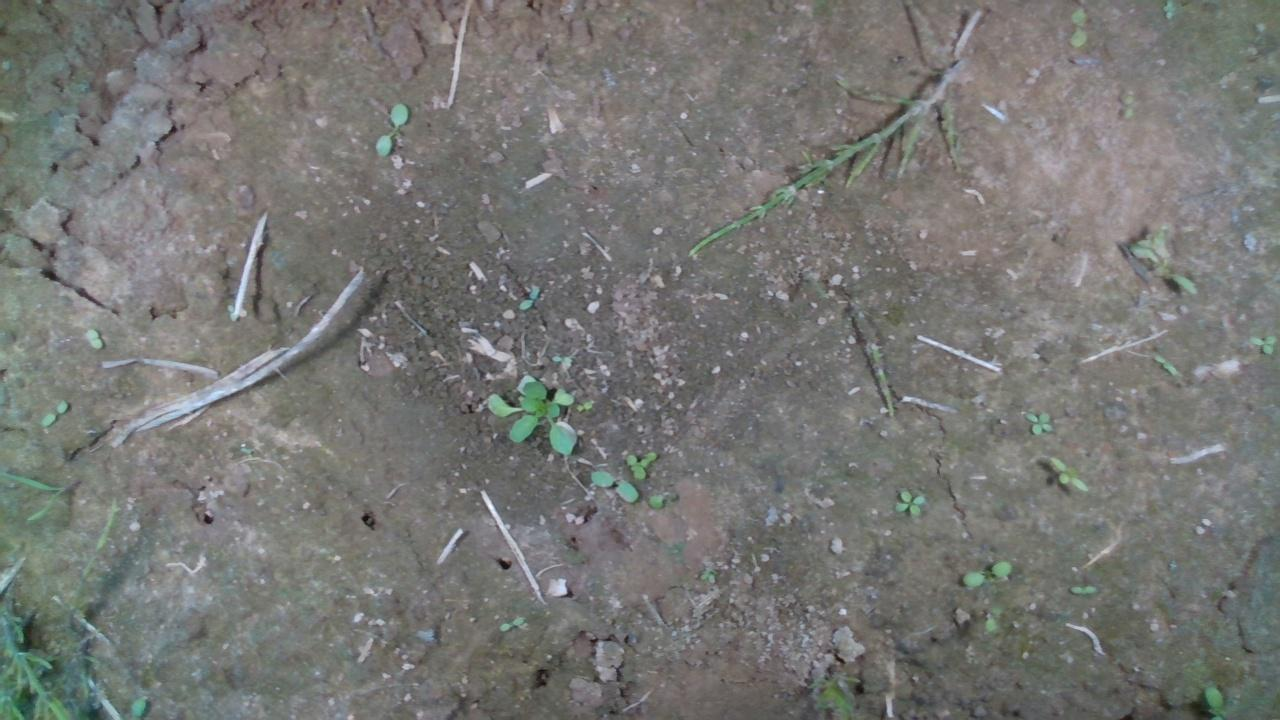weed: (371, 101, 407, 159), (1048, 454, 1090, 493), (961, 558, 1013, 587), (38, 396, 68, 428), (892, 488, 925, 517), (1022, 410, 1053, 435), (1150, 350, 1177, 377), (1064, 582, 1096, 596), (83, 327, 103, 349)
